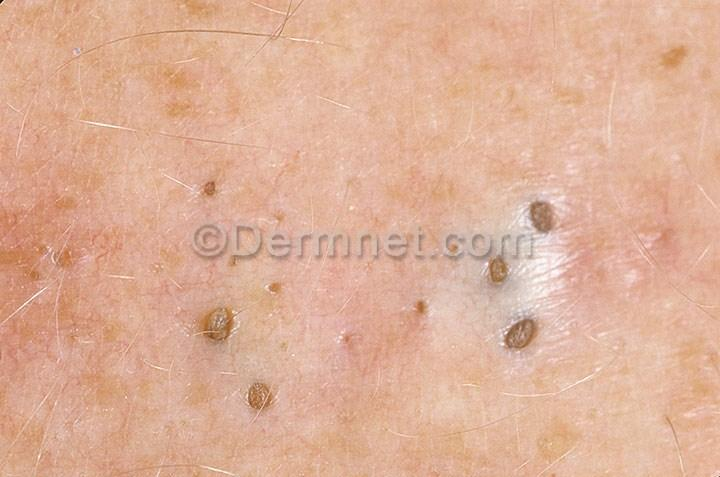Acne: (157, 284, 249, 357), (239, 366, 307, 454), (172, 174, 269, 229), (511, 192, 582, 259), (501, 314, 568, 377), (477, 224, 527, 302), (401, 287, 464, 342)
